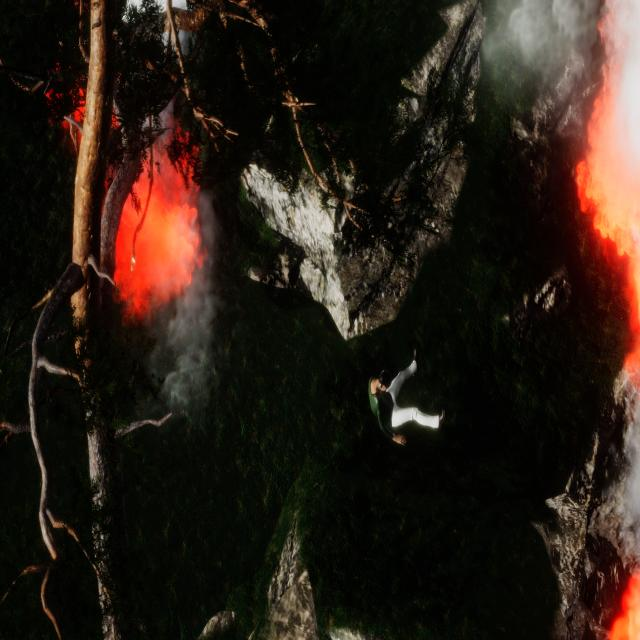Human: (364, 342, 457, 451)
